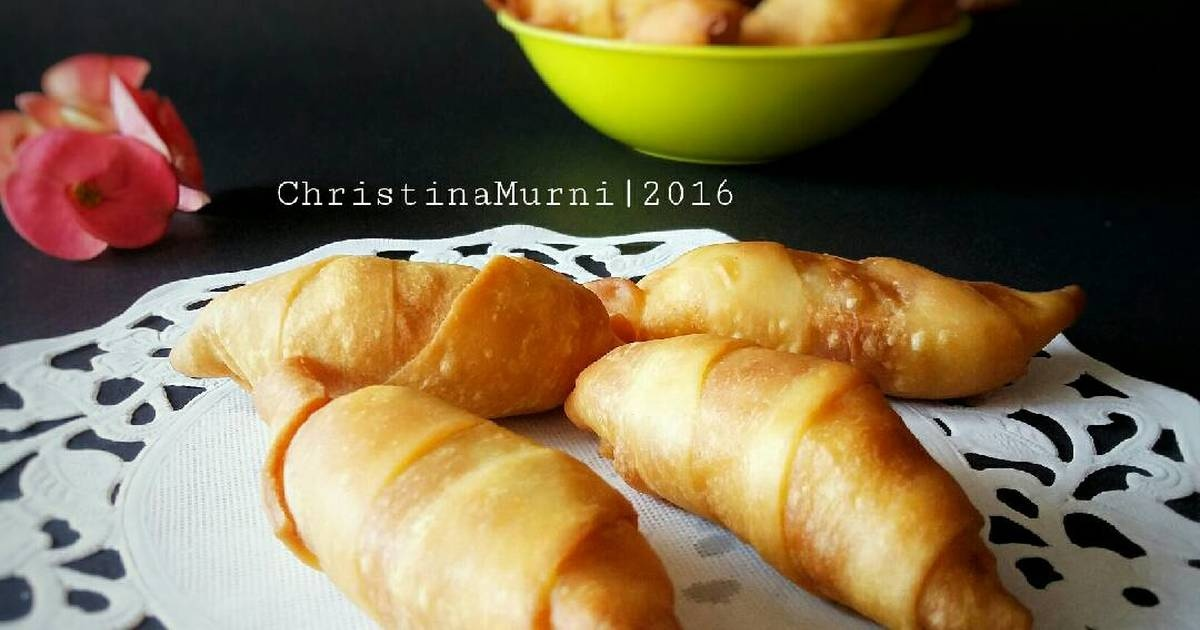pisang_molen: (567, 338, 1040, 627), (166, 251, 602, 430)
